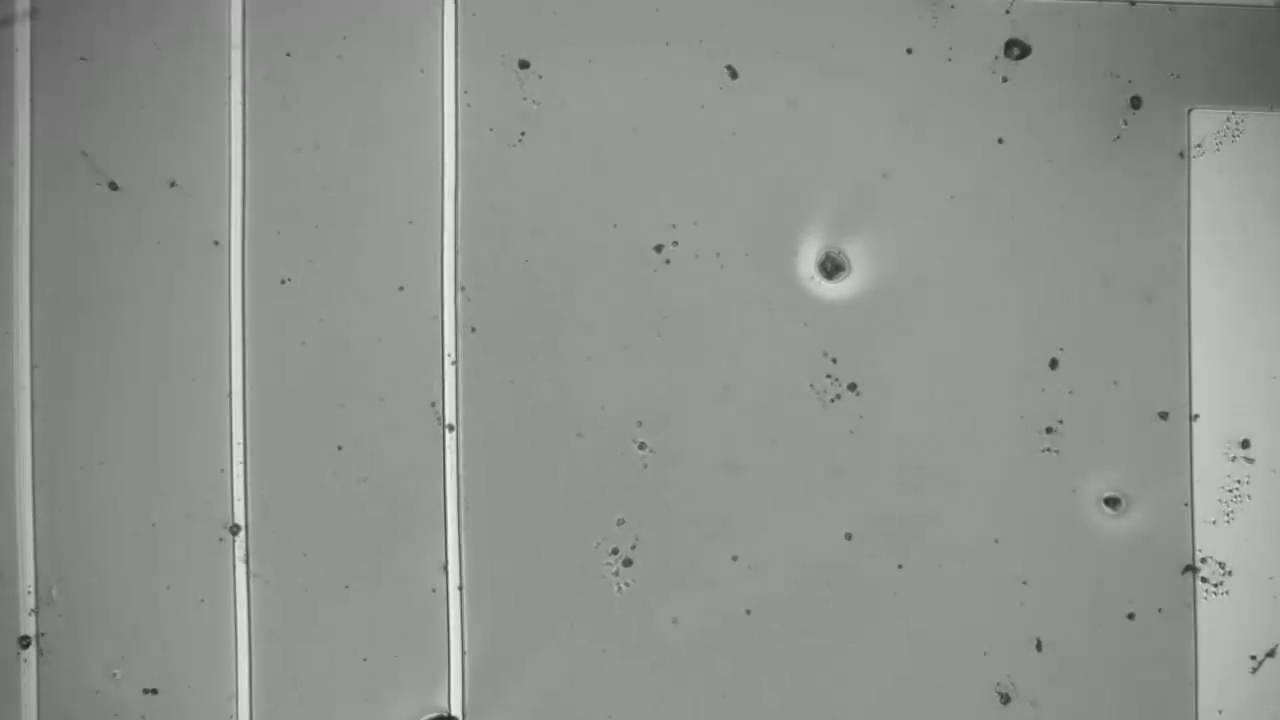stains_enbedded: (10, 624, 47, 660), (433, 415, 472, 445), (224, 516, 256, 542)
